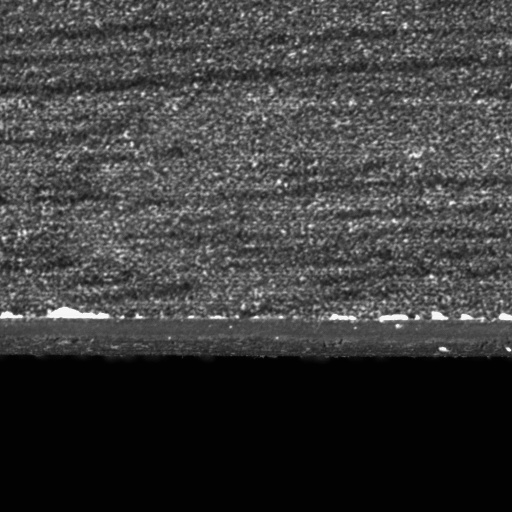huashang: (44, 305, 111, 321), (375, 312, 410, 322), (431, 311, 449, 322)
